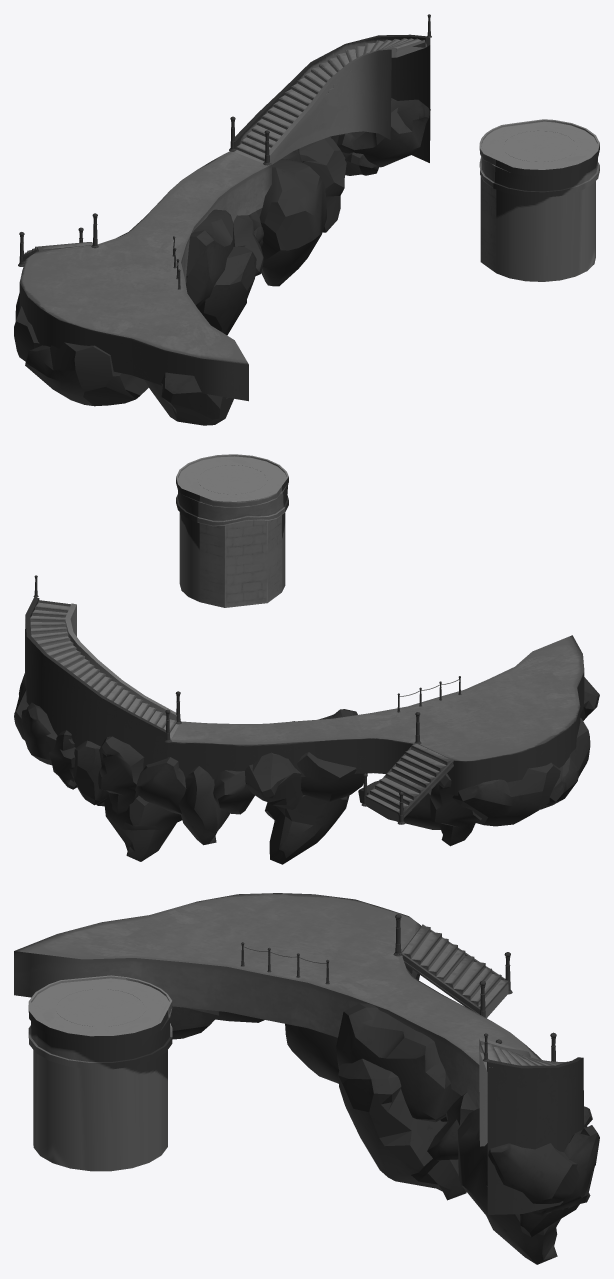
The picture shows the model from 3 angles, top to bottom: view 1: azimuth 30°, elevation 25°; view 2: azimuth 150°, elevation 25°; view 3: azimuth 270°, elevation 25°; orthographic projection. The views are drawn at different scales.
Visible parts, largest first — view 1: frontLevelBase_uv1, centralBuilding_uv1, stairBase_uv1, RockDown9_uv1, RockDown7_uv1, longStairs_uv1, RockDown2_uv1 (1), RockDown8_uv1, RockDown_uv1, RockDown13_uv1, RockDown10_uv1 (1), RockDown2_uv1 (+2 smaller); view 2: frontLevelBase_uv1, centralBuilding_uv1, stairBase_uv1, longStairs_uv1, RockDown6_uv1, RockDown_uv1, RockDown9_uv1, RockDown11_uv1, RockDown8_uv1, RockDown11_uv1 (1), RockDown10_uv1, RockDown3_uv1 (+9 smaller); view 3: frontLevelBase_uv1, centralBuilding_uv1, stairBase_uv1, RockDown_uv1, RockDown8_uv1, RockDown9_uv1, RockDown2_uv1 (1), stairs1_uv1, RockDown5_uv1, stairs_uv1, RockDown4_uv1, RockDown2_uv1 (+4 smaller).
Boxes of the visible parts, left/top/right/bottom form: frontLevelBase_uv1: left=19, top=151, right=271, bottom=401; centralBuilding_uv1: left=479, top=119, right=599, bottom=281; stairBase_uv1: left=234, top=34, right=430, bottom=164; RockDown9_uv1: left=259, top=159, right=326, bottom=286; RockDown7_uv1: left=25, top=342, right=148, bottom=406; longStairs_uv1: left=234, top=38, right=424, bottom=163; RockDown2_uv1 (1): left=337, top=98, right=430, bottom=167; RockDown8_uv1: left=186, top=209, right=234, bottom=308; RockDown_uv1: left=198, top=246, right=256, bottom=335; RockDown13_uv1: left=144, top=372, right=233, bottom=425; RockDown10_uv1 (1): left=299, top=137, right=346, bottom=232; RockDown2_uv1: left=233, top=215, right=263, bottom=276; frontLevelBase_uv1: left=167, top=635, right=584, bottom=795; centralBuilding_uv1: left=176, top=454, right=288, bottom=607; stairBase_uv1: left=25, top=597, right=176, bottom=769; longStairs_uv1: left=30, top=600, right=179, bottom=739; RockDown6_uv1: left=452, top=762, right=560, bottom=826; RockDown_uv1: left=265, top=795, right=349, bottom=864; RockDown9_uv1: left=104, top=795, right=182, bottom=861; RockDown11_uv1: left=98, top=736, right=144, bottom=814; RockDown8_uv1: left=292, top=709, right=367, bottom=802; RockDown11_uv1 (1): left=178, top=766, right=229, bottom=845; RockDown10_uv1: left=245, top=752, right=302, bottom=809; RockDown3_uv1: left=135, top=757, right=186, bottom=814; frontLevelBase_uv1: left=14, top=893, right=541, bottom=1108; centralBuilding_uv1: left=28, top=975, right=172, bottom=1171; stairBase_uv1: left=479, top=1037, right=584, bottom=1214; RockDown_uv1: left=338, top=1058, right=466, bottom=1200; RockDown8_uv1: left=336, top=1003, right=460, bottom=1122; RockDown9_uv1: left=457, top=1108, right=560, bottom=1264; RockDown2_uv1 (1): left=481, top=1143, right=579, bottom=1212; stairs1_uv1: left=444, top=955, right=508, bottom=1018; RockDown5_uv1: left=285, top=1024, right=339, bottom=1083; stairs_uv1: left=401, top=926, right=465, bottom=981; RockDown4_uv1: left=532, top=1125, right=599, bottom=1215; RockDown2_uv1: left=427, top=1092, right=476, bottom=1160.
Size of the model in its own units: 76.66 by 38.45 by 66.33.
